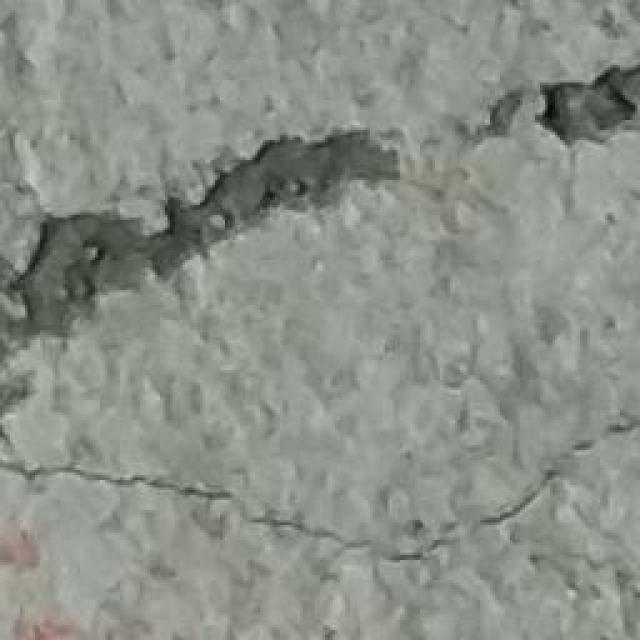Transverse: (14, 49, 640, 365), (0, 410, 638, 555)
